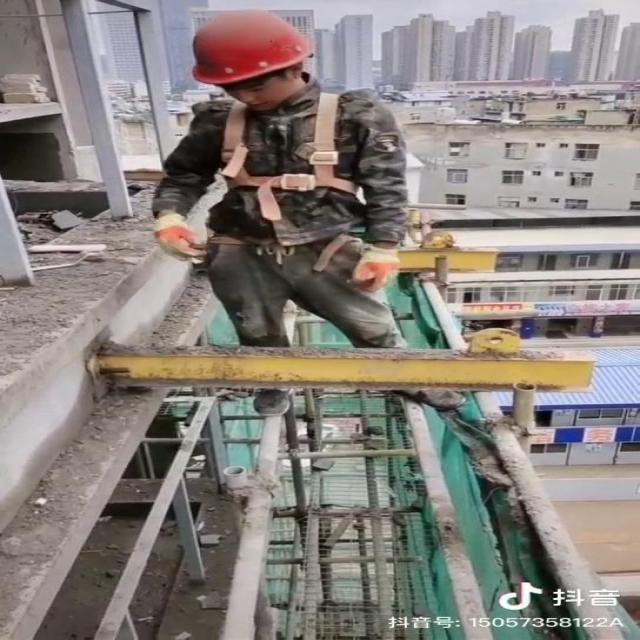Arnes_seguridad: (171, 89, 400, 225)
